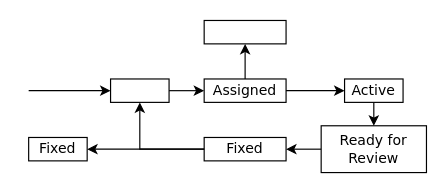
Image size: 447x193. Some labels were removed from this diagram. The centre of each missing label's shape, as x and y in pixels:
"Cancelled" belongs at pixel 244 31.
"Open" belongs at pixel 139 90.
